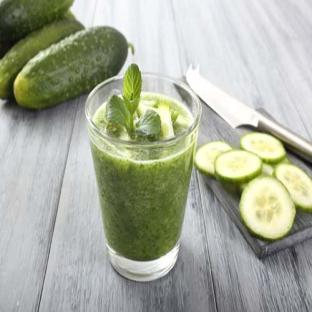Cucumber: (14, 27, 127, 109), (0, 18, 84, 98), (240, 177, 295, 240), (0, 0, 73, 40), (274, 164, 311, 211), (215, 150, 262, 183), (240, 133, 285, 163), (195, 141, 231, 176), (157, 103, 174, 139), (0, 40, 12, 59), (263, 163, 274, 175)
